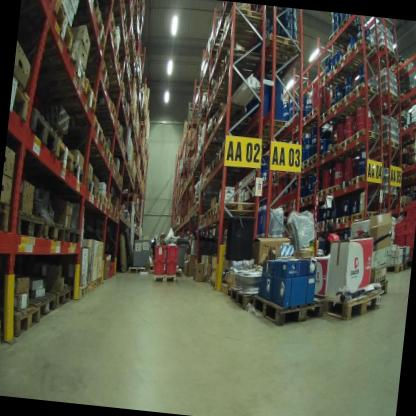pallet: (226, 275, 392, 320), (251, 280, 328, 336), (311, 280, 385, 333), (18, 0, 77, 62), (26, 34, 90, 90), (55, 0, 117, 56), (33, 70, 100, 119), (21, 100, 61, 160), (88, 4, 126, 63), (213, 26, 262, 70), (0, 289, 42, 338), (255, 31, 299, 77), (204, 158, 258, 189), (8, 70, 36, 128), (16, 282, 57, 321), (65, 109, 107, 147), (209, 193, 257, 226), (211, 98, 252, 136), (16, 203, 49, 245), (73, 58, 116, 89), (220, 5, 260, 38), (213, 146, 252, 177), (250, 112, 299, 136), (222, 47, 260, 77), (211, 67, 252, 94), (55, 130, 77, 176), (336, 50, 370, 79), (205, 82, 241, 109), (328, 15, 366, 40), (348, 81, 380, 110), (337, 89, 372, 115), (343, 37, 380, 61), (349, 125, 383, 150), (317, 145, 352, 169), (89, 96, 118, 123), (41, 216, 67, 246), (0, 196, 18, 239), (249, 127, 283, 149), (325, 24, 357, 47), (372, 84, 400, 110), (46, 280, 71, 309), (328, 141, 364, 161), (351, 170, 382, 193), (104, 54, 128, 83), (339, 133, 369, 156), (328, 62, 357, 84), (64, 221, 85, 249), (108, 77, 128, 106), (304, 101, 328, 124), (294, 112, 321, 132), (370, 44, 395, 65), (70, 155, 88, 184), (319, 72, 348, 90), (380, 260, 407, 279), (93, 181, 110, 211), (379, 133, 401, 156), (122, 260, 149, 278), (390, 58, 411, 81), (347, 208, 377, 224), (69, 277, 88, 302), (114, 0, 131, 26), (81, 167, 96, 196), (0, 310, 9, 358), (149, 269, 179, 282), (192, 196, 212, 215), (107, 138, 126, 156), (395, 156, 413, 175), (193, 154, 212, 171), (99, 130, 111, 156), (198, 103, 218, 118), (84, 276, 97, 298), (104, 146, 115, 172), (199, 142, 218, 157), (325, 180, 340, 199), (105, 118, 126, 131), (303, 187, 317, 206), (91, 272, 104, 292), (107, 129, 124, 144), (398, 89, 413, 106), (339, 175, 354, 191), (310, 217, 325, 233), (296, 153, 309, 171), (320, 212, 335, 227), (205, 275, 219, 291), (334, 212, 351, 225), (204, 203, 214, 225), (187, 201, 198, 221), (169, 265, 185, 278), (395, 200, 411, 213), (106, 195, 115, 218), (109, 155, 118, 178), (316, 183, 328, 200), (404, 168, 416, 185), (318, 107, 331, 121), (307, 156, 319, 171), (297, 162, 308, 178), (219, 281, 229, 298), (309, 149, 320, 164), (329, 100, 340, 115), (197, 211, 206, 228), (119, 105, 129, 120), (111, 203, 119, 221), (112, 164, 120, 182), (296, 192, 303, 209), (289, 202, 300, 210), (290, 194, 297, 204), (411, 153, 416, 164), (120, 174, 123, 188)
small_load_carrier: (151, 259, 168, 279), (163, 255, 179, 276), (164, 241, 182, 259), (391, 218, 407, 235), (391, 230, 407, 247), (404, 196, 416, 218), (153, 242, 165, 260), (404, 228, 415, 245), (405, 216, 415, 233)
